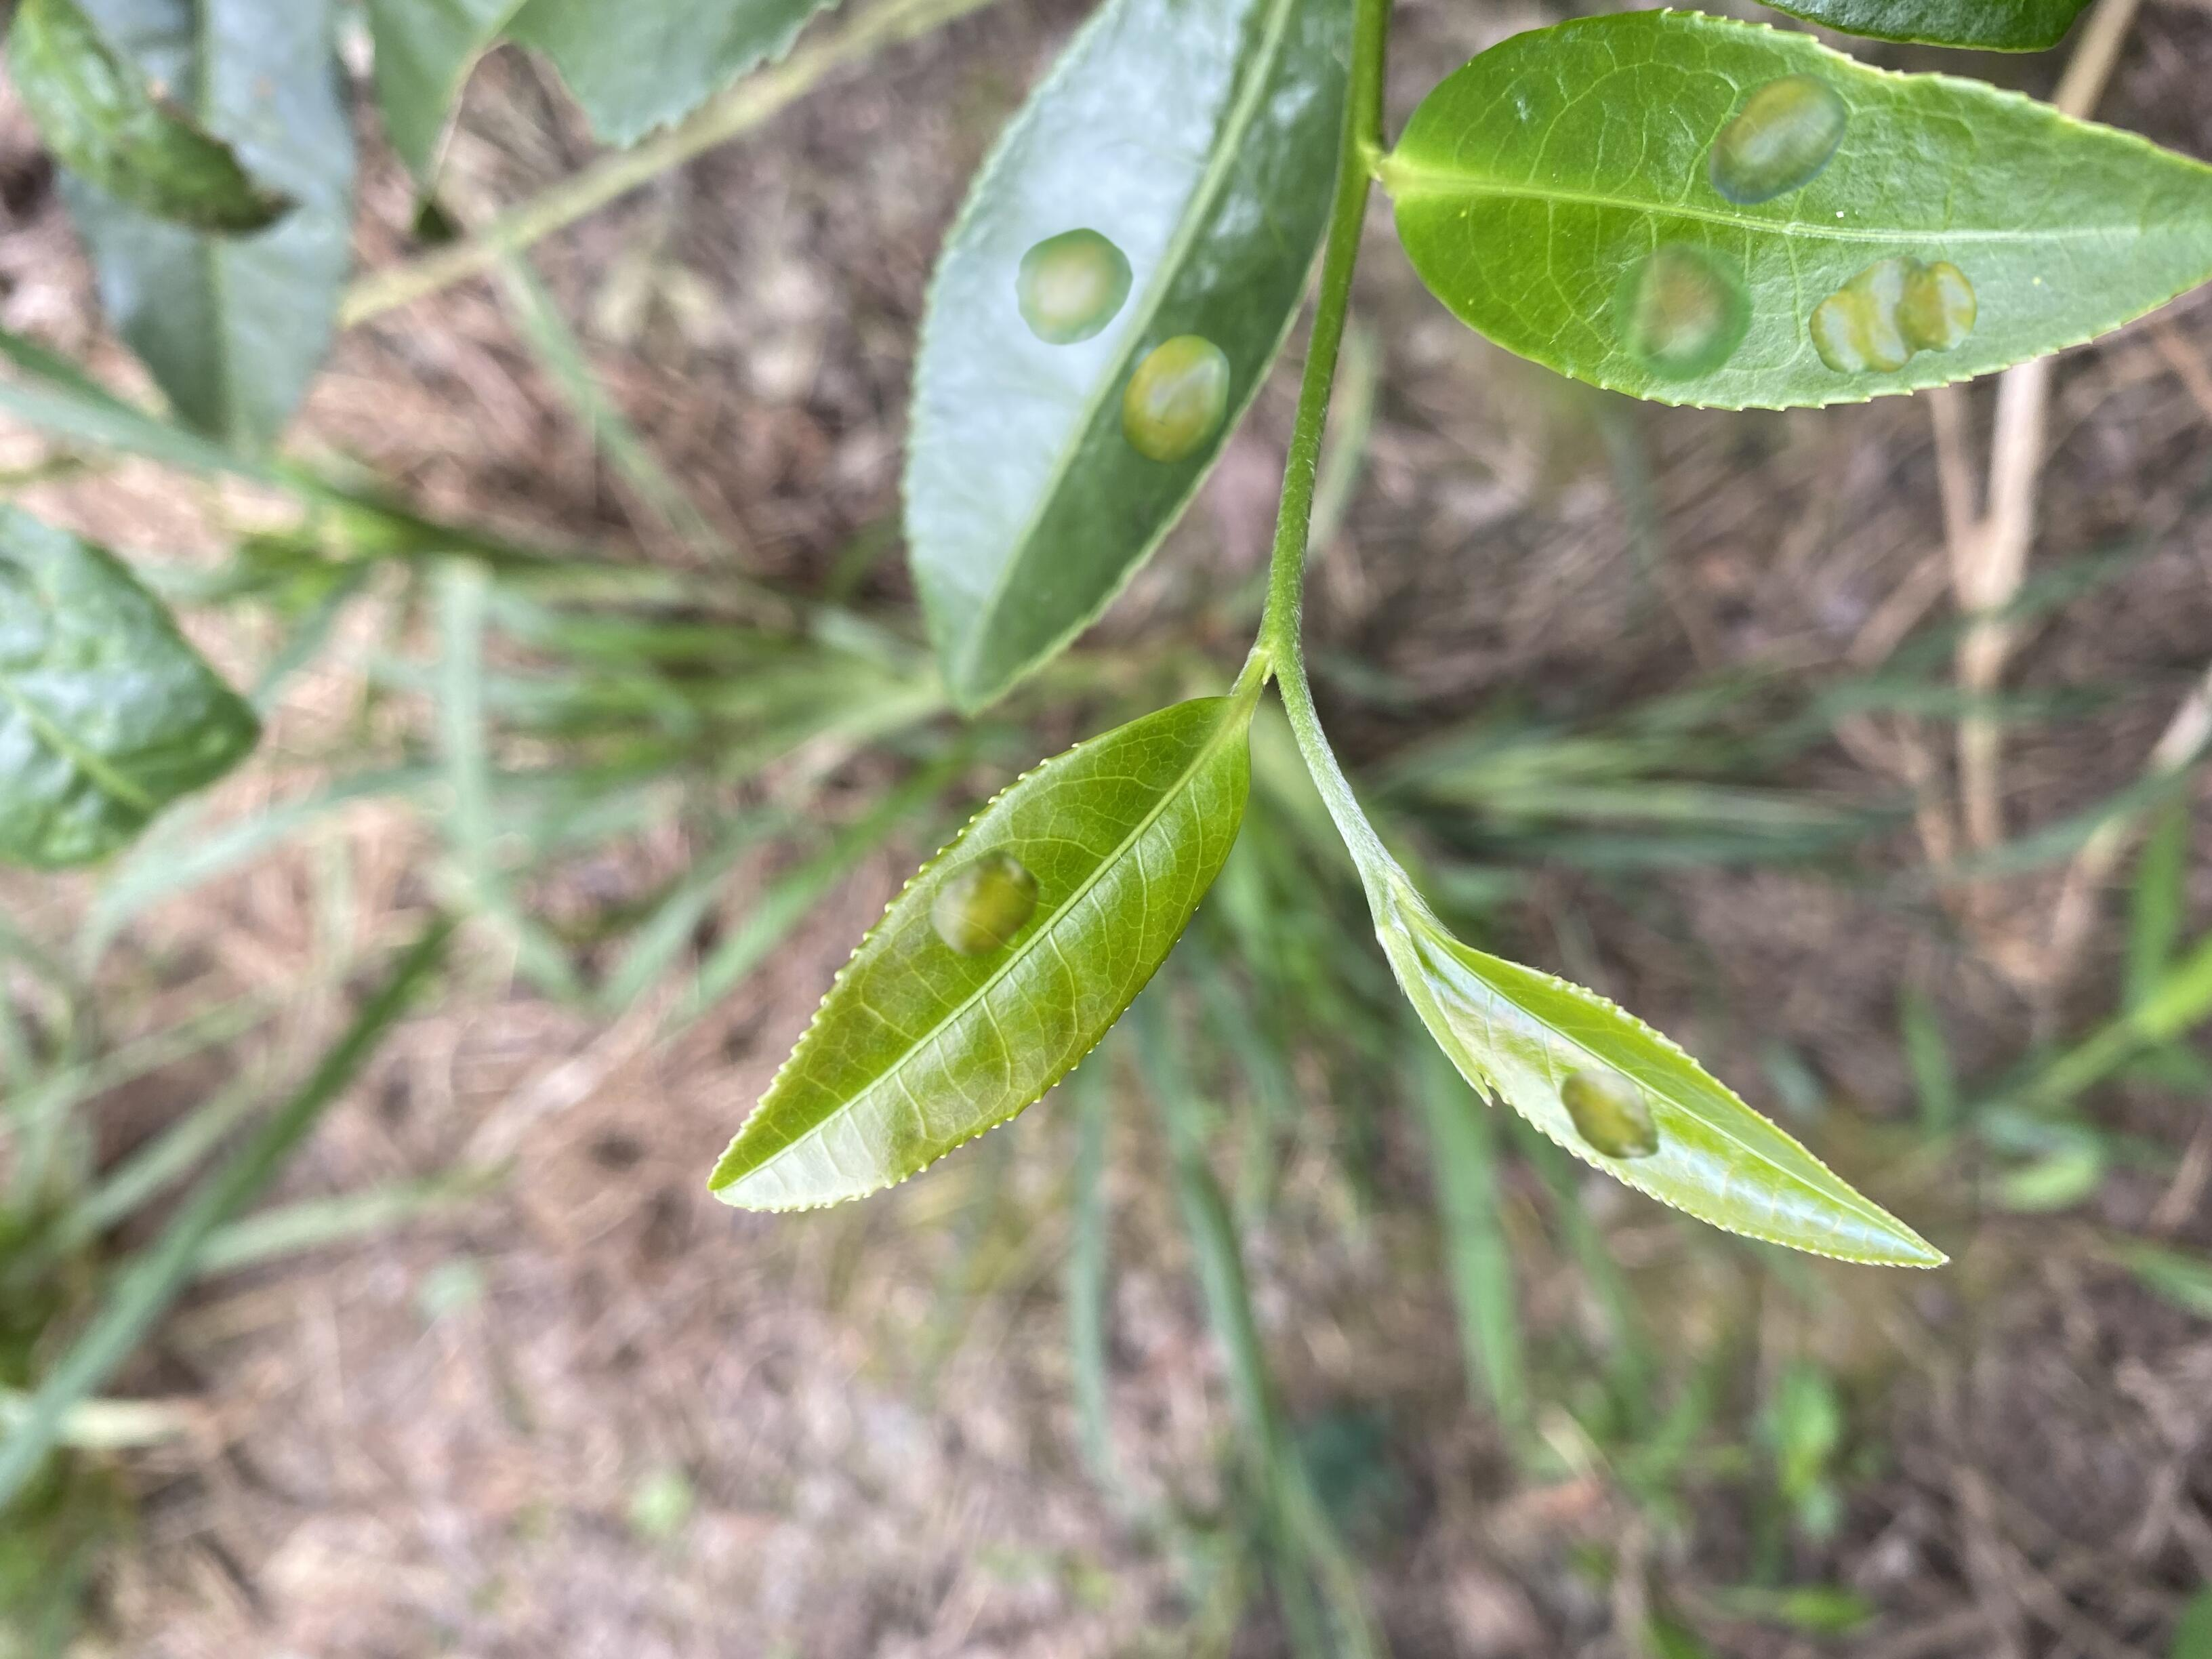chabing_high: (1381, 7, 2209, 415), (894, 2, 1348, 720)
chabing_low: (711, 697, 1256, 1216), (1416, 924, 1949, 1267)
